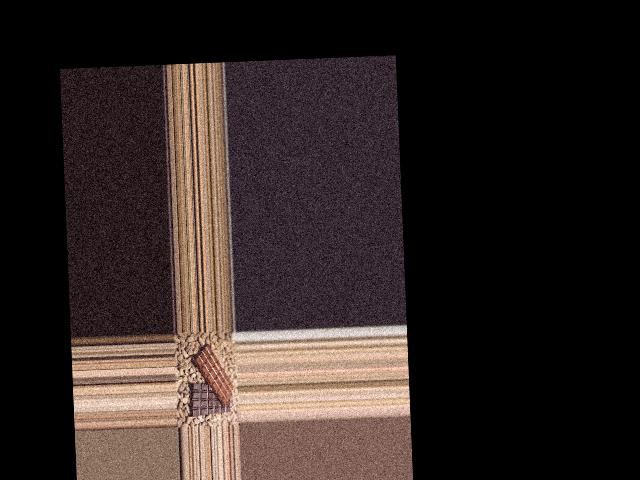chocolate: (186, 381, 233, 421)
